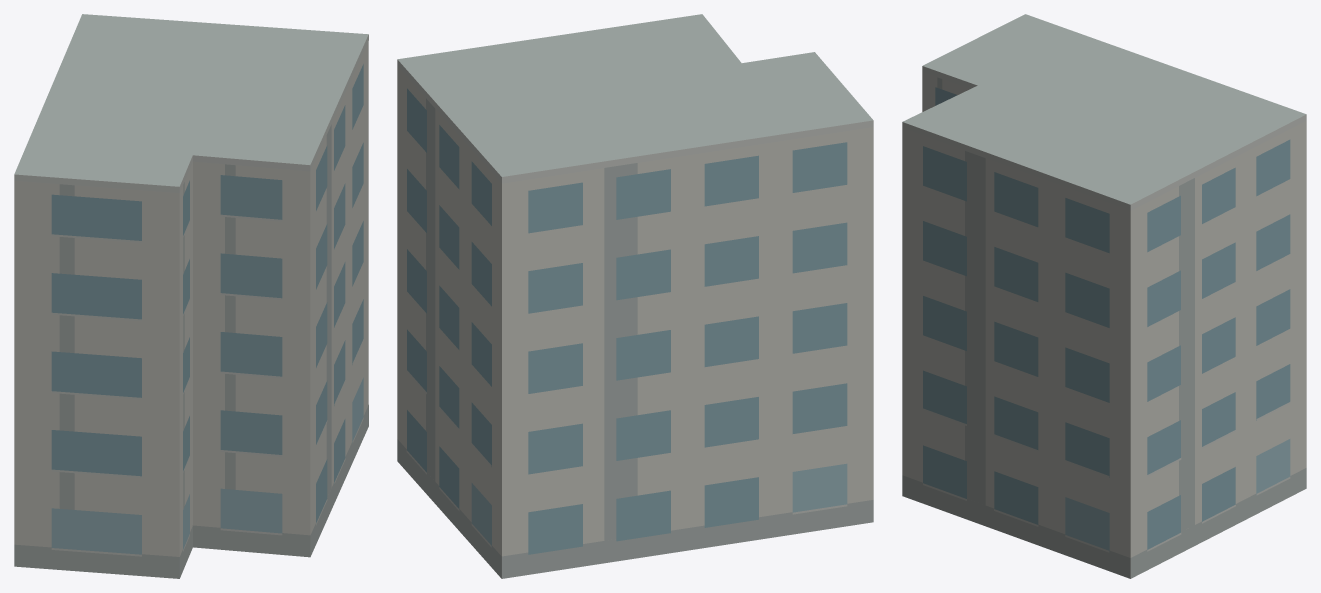
File: survey-upis-32893363.glb
3 views of the same model, side by side, from view 1: azimuth 30°, elevation 25°; view 2: azimuth 150°, elevation 25°; view 3: azimuth 270°, elevation 25° (orthographic). The views are drawn at different scales.
Parts seen in each view (by area): view 1: survey-upis-32893363.tmp; view 2: survey-upis-32893363.tmp; view 3: survey-upis-32893363.tmp.
Part boxes in pixels (x1=…): survey-upis-32893363.tmp: x1=14, y1=14, x2=368, y2=578; survey-upis-32893363.tmp: x1=397, y1=14, x2=873, y2=578; survey-upis-32893363.tmp: x1=902, y1=14, x2=1306, y2=578.
Size of the model in its own units: 16.41 by 15 by 14.7.
